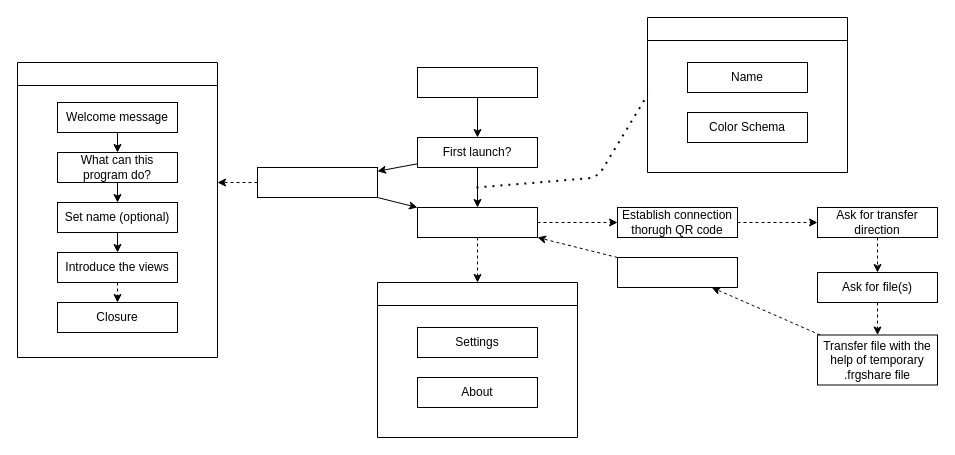
This 955x455 diagram has some shape labels left out. Here are the shapes that lost their labels. From the top down, the box of each, then its label:
(416, 66, 538, 98): Start
(646, 16, 848, 172): Load Settings
(256, 166, 378, 198): Initiate Setup
(16, 62, 218, 358): Setup
(416, 206, 538, 238): Load dashboard
(616, 256, 738, 288): Success message
(376, 282, 578, 438): Change Views
